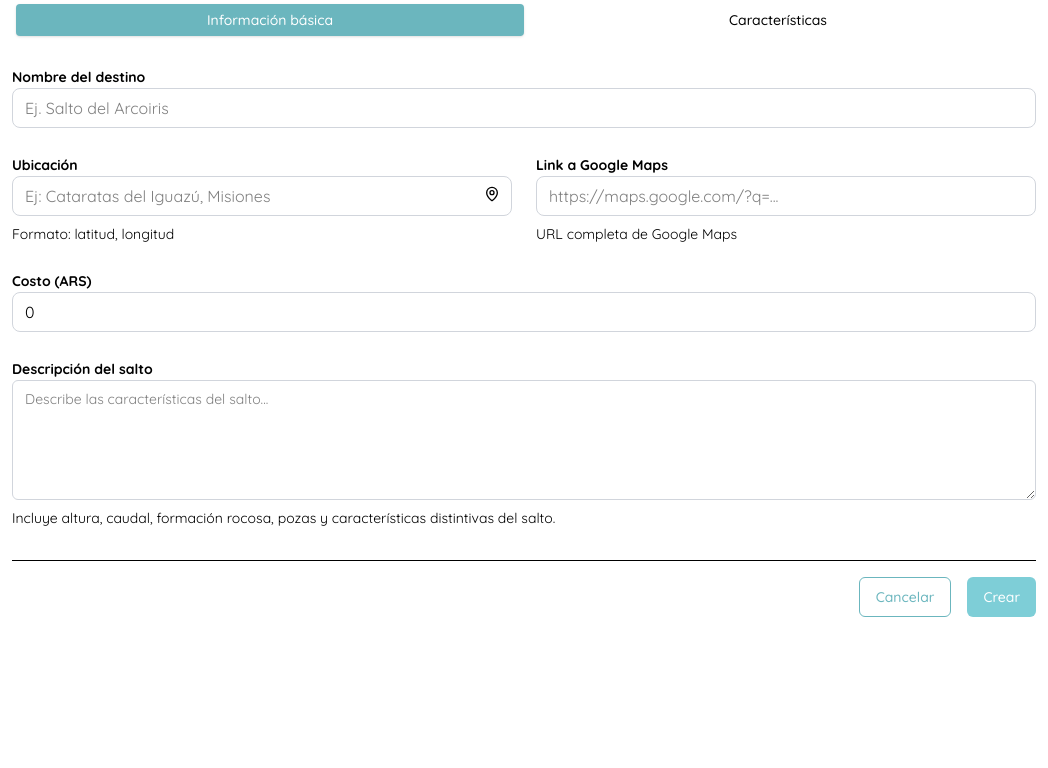
SaltoForm › Validación de formulario › muestra errores de validación cuando los campos están vacíos
Click the button "Crear" at x=1002, y=597, box [967,577,1036,617]
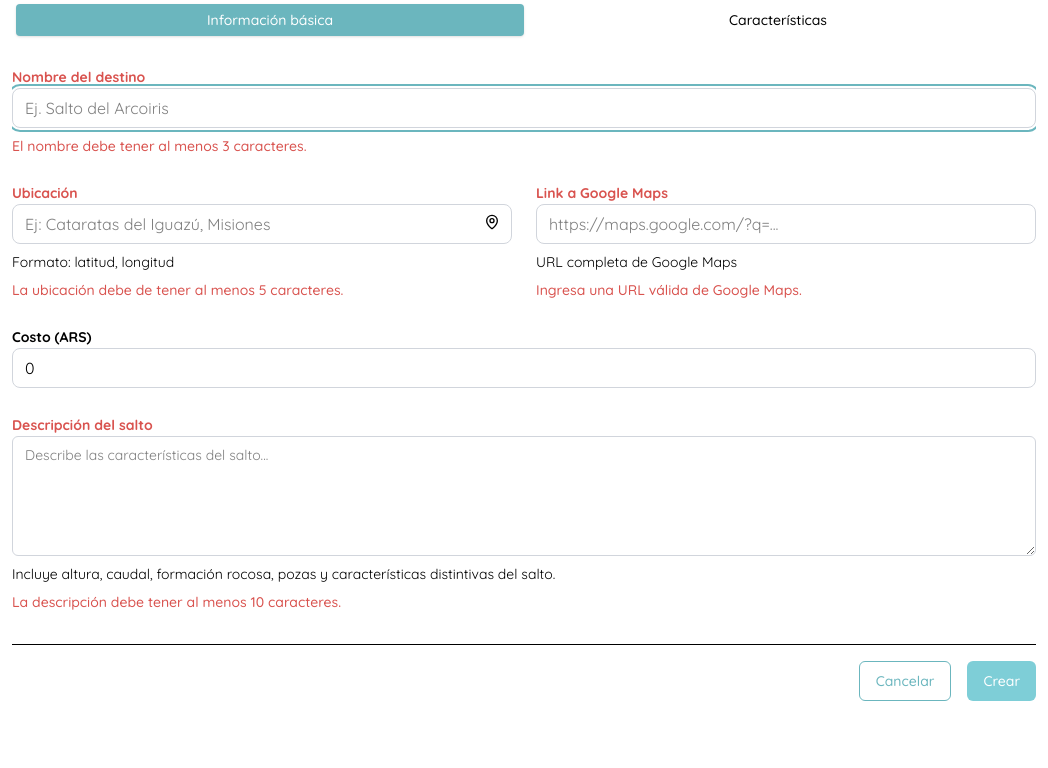
expect the text "El nombre debe tener al menos 3 caracteres." is shown: met, box [12,137,306,155]
expect the text "La descripción debe tener al menos 10 caracteres." is shown: met, box [12,593,341,611]
expect the text "La ubicación debe de tener al menos 5 caracteres." is shown: met, box [12,281,343,299]
